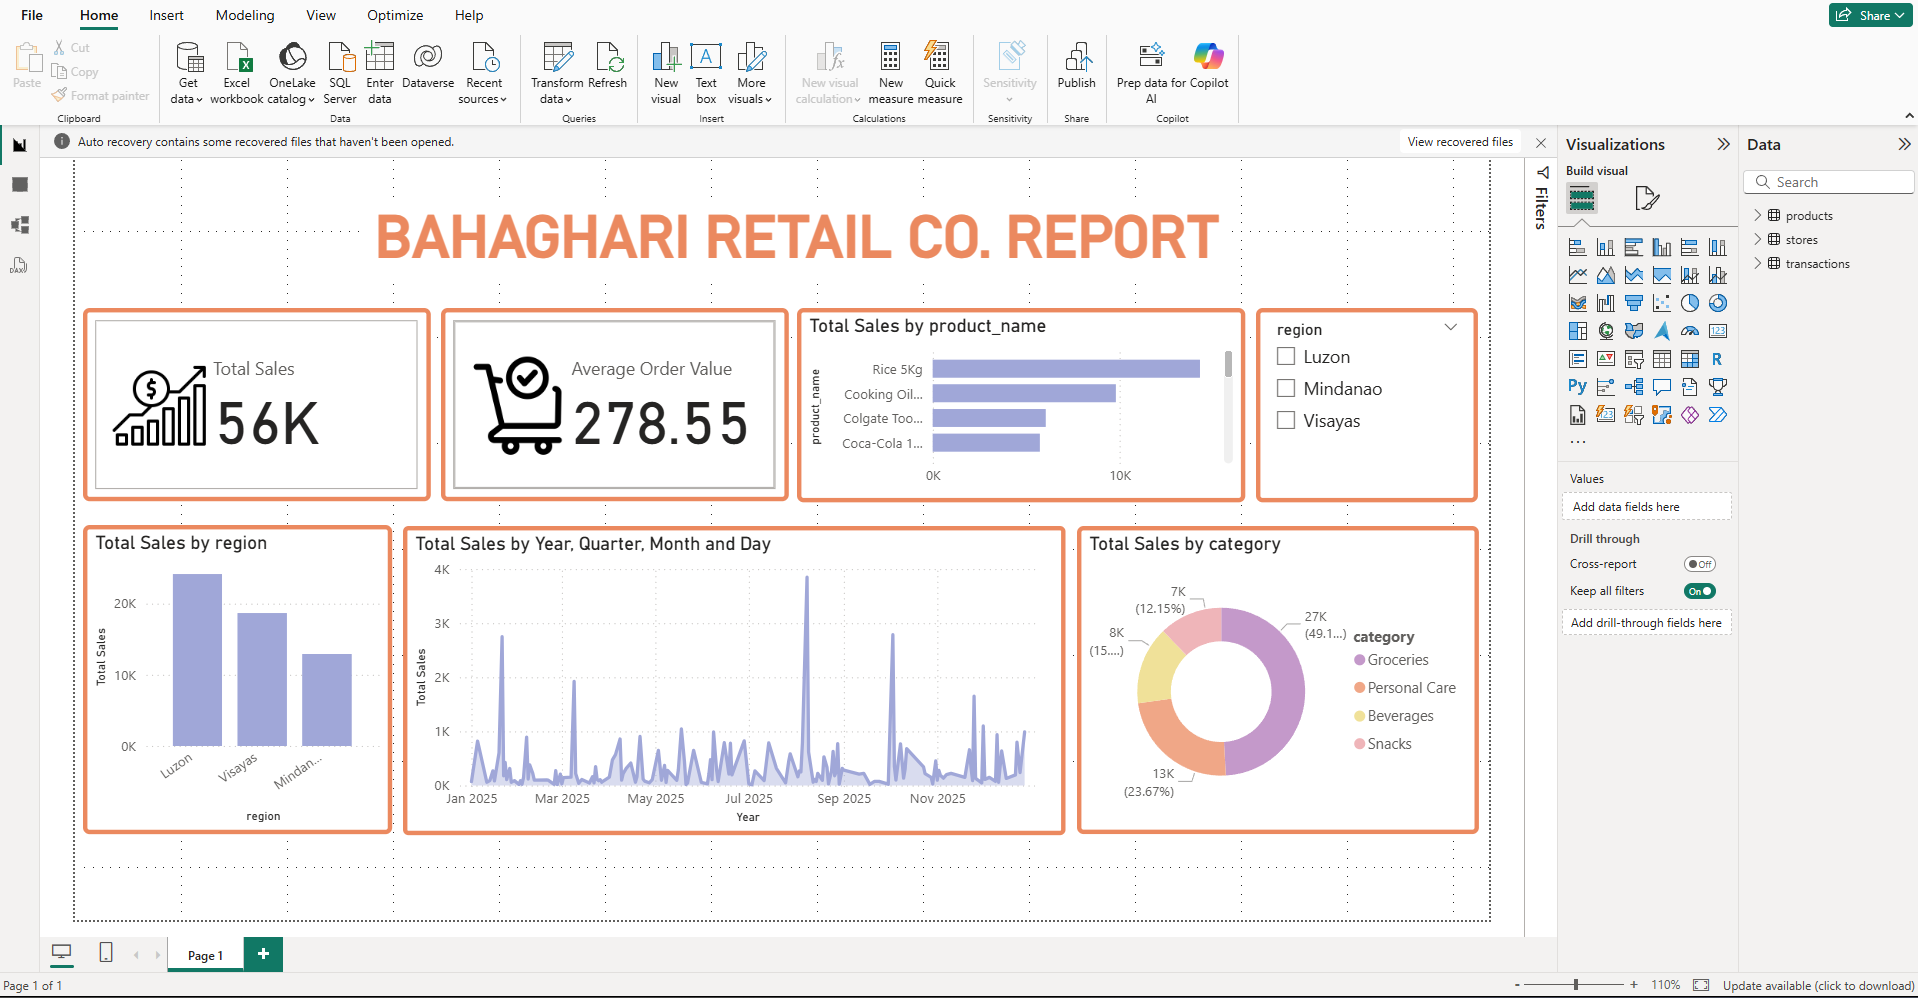

The page's visual inventory and layout, read from the dashboard file:
{"tool":"powerbi","page":{"name":"Page 1","canvas":[1280,720],"ordinal":0},"visuals":[{"type":"cardVisual","fields":{"Data":["transactions.Total Sales"]},"box":[7.5,165.5,314.7,175.2],"z":0},{"type":"columnChart","fields":{"Category":["stores.region"],"Y":["transactions.Total Sales"]},"box":[7.5,362.5,280.1,280.1],"z":1000},{"type":"cardVisual","fields":{"Data":["transactions.Average Order Value"]},"box":[331.1,165.5,314.7,175.2],"z":2000},{"type":"lineChart","fields":{"Category":["transactions.date.Variation.Date Hierarchy.Year","transactions.date.Variation.Date Hierarchy.Quarter","transactions.date.Variation.Date Hierarchy.Month","transactions.date.Variation.Date Hierarchy.Day"],"Y":["transactions.Total Sales"]},"box":[297.1,362.9,600,280],"z":3000},{"type":"donutChart","fields":{"Category":["products.category"],"Y":["transactions.Total Sales"]},"box":[907.1,363.4,364.2,279.1],"z":4000},{"type":"clusteredBarChart","fields":{"Category":["products.product_name"],"Y":["transactions.Total Sales"]},"box":[654.3,165.7,405.7,175.7],"z":5000},{"type":"textbox","box":[261.8,65.6,784.8,73.2],"z":6000},{"type":"slicer","fields":{"Values":["stores.region"]},"box":[1070,165.7,201.4,175.7],"z":7000}]}

Visuals, with their boxes on the page's 1280x720 design canvas (x1, y1, x2, y2). These are canvas units, not pixel positions in the 1918x998 screenshot, which may show the page scaled, cropped or inside an application window:
cardVisual - transactions.Total Sales: <region>8, 166, 322, 341</region>
columnChart - stores.region x transactions.Total Sales: <region>8, 362, 288, 643</region>
cardVisual - transactions.Average Order Value: <region>331, 166, 646, 341</region>
lineChart - transactions.date.Variation.Date Hierarchy.Year x transactions.date.Variation.Date Hierarchy.Quarter: <region>297, 363, 897, 643</region>
donutChart - products.category x transactions.Total Sales: <region>907, 363, 1271, 642</region>
clusteredBarChart - products.product_name x transactions.Total Sales: <region>654, 166, 1060, 341</region>
textbox: <region>262, 66, 1047, 139</region>
slicer - stores.region: <region>1070, 166, 1271, 341</region>
